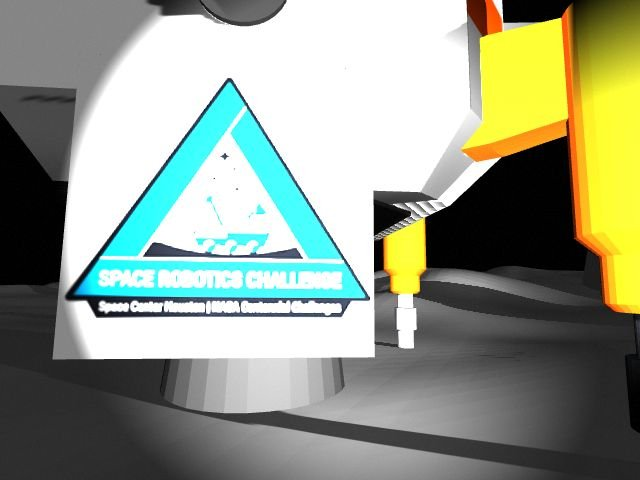basemarker: (63, 74, 371, 320)
